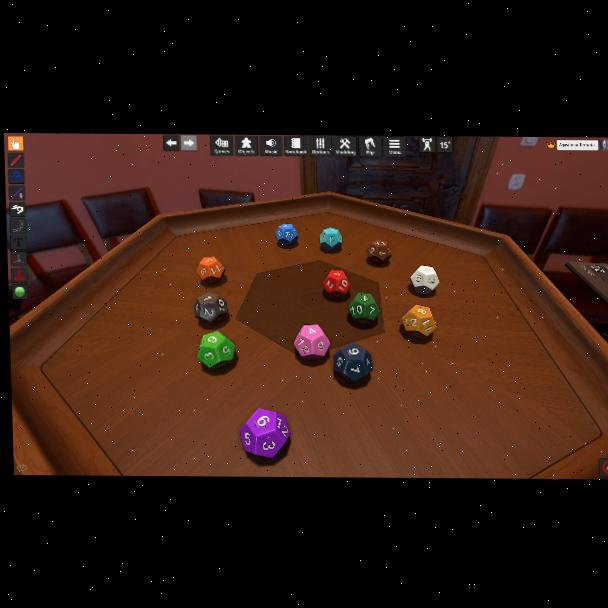d12: (238, 407, 290, 459), (197, 331, 237, 370), (337, 342, 375, 383), (293, 325, 327, 360), (195, 292, 230, 325), (402, 304, 435, 338), (348, 294, 379, 324), (409, 265, 439, 295), (196, 257, 226, 284), (322, 270, 349, 299), (366, 240, 391, 264), (276, 223, 298, 247), (320, 227, 342, 250)
